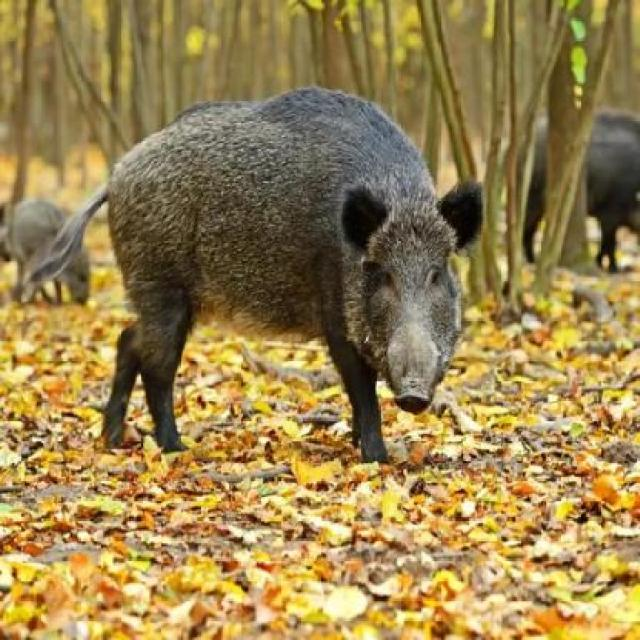wildboar: (19, 72, 495, 470), (480, 92, 640, 280), (0, 188, 94, 320)
